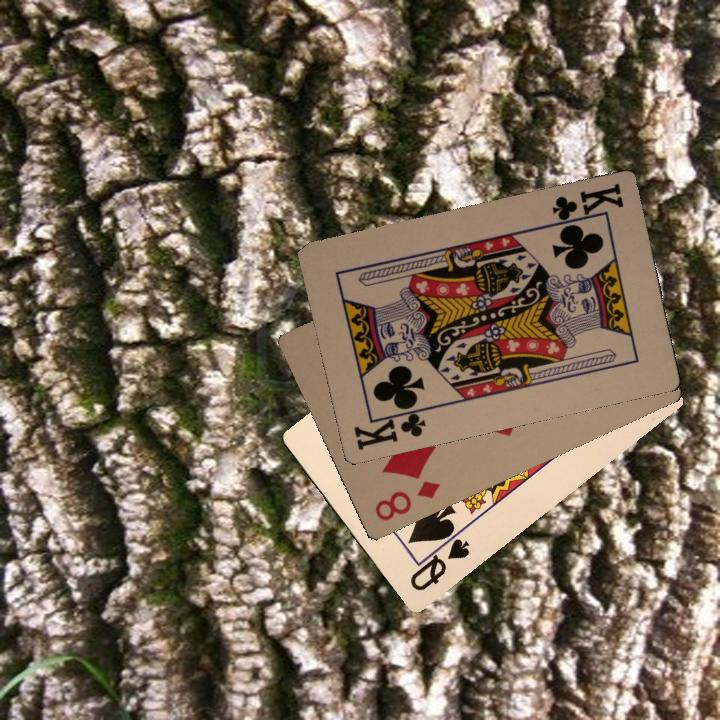8d: (370, 476, 443, 524)
Kc: (350, 402, 429, 455), (547, 179, 626, 229)
Qs: (405, 525, 472, 594)
